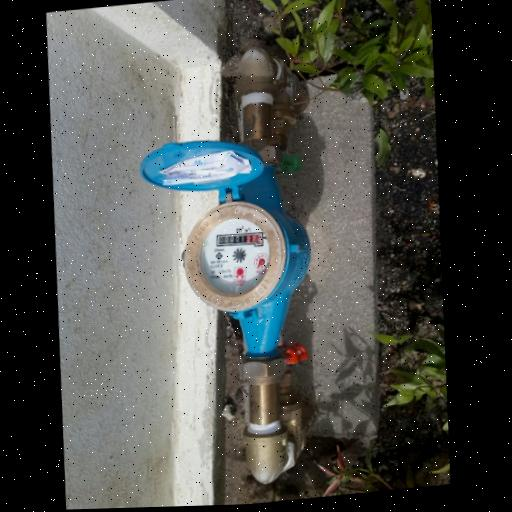0: (234, 236, 241, 244), (229, 236, 235, 244), (219, 237, 224, 244), (224, 236, 229, 243)
1: (241, 236, 246, 243)
2: (245, 234, 252, 243)
7: (251, 234, 257, 242)
8: (256, 233, 263, 244)
border_water_meter_number: (215, 229, 267, 251)
